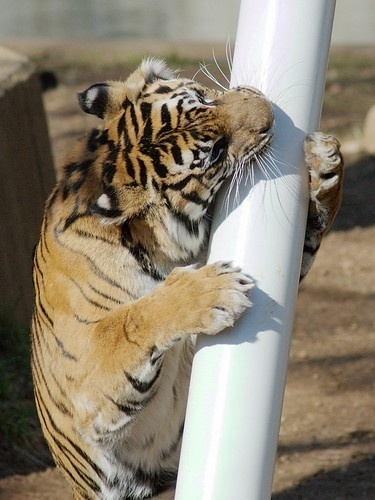tigre: (22, 53, 343, 496)
